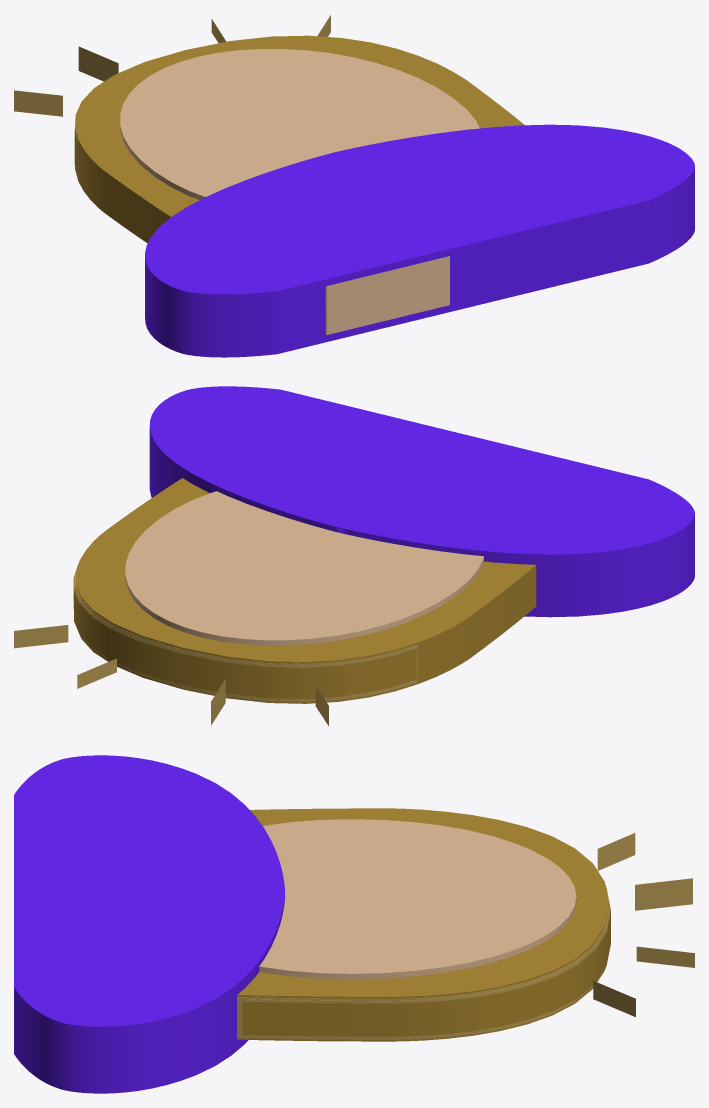
The model's file is emoji_u1f647_1f3fc_200d_2640.glb.
3 renders of one model, top to bottom at view 1: azimuth 30°, elevation 25°; view 2: azimuth 150°, elevation 25°; view 3: azimuth 270°, elevation 25°, orthographic. The views are drawn at different scales.
Visible parts, largest first — view 1: emoji_u1f647_1f3fc_200d_2640; view 2: emoji_u1f647_1f3fc_200d_2640; view 3: emoji_u1f647_1f3fc_200d_2640.
Boxes of the visible parts, bbox=[...] form: emoji_u1f647_1f3fc_200d_2640: bbox=[14, 15, 694, 357]; emoji_u1f647_1f3fc_200d_2640: bbox=[14, 386, 694, 725]; emoji_u1f647_1f3fc_200d_2640: bbox=[14, 755, 694, 1093].
Size of the model in its own units: 0.0313 by 0.0036 by 0.0332.
